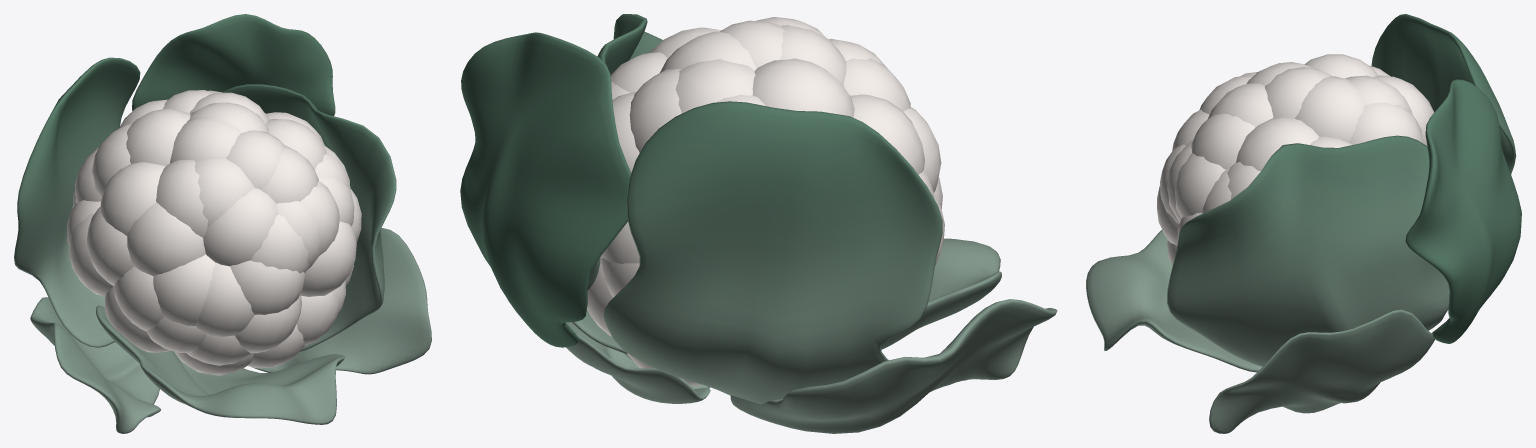
Rendered from cauliflower.glb.
3 views of the same model, side by side, from view 1: azimuth 30°, elevation 25°; view 2: azimuth 150°, elevation 25°; view 3: azimuth 270°, elevation 25° (orthographic). The views are drawn at different scales.
Visible parts, largest first — view 1: icons8_white_cauliflower; view 2: icons8_white_cauliflower; view 3: icons8_white_cauliflower.
Boxes of the visible parts, bbox=[...] form: icons8_white_cauliflower: bbox=[14, 14, 431, 433]; icons8_white_cauliflower: bbox=[460, 14, 1057, 433]; icons8_white_cauliflower: bbox=[1086, 14, 1521, 433].
Bounding box in the file's own units: 2.51 × 2 × 2.38.
Materials: 1 (1 with a texture image).
